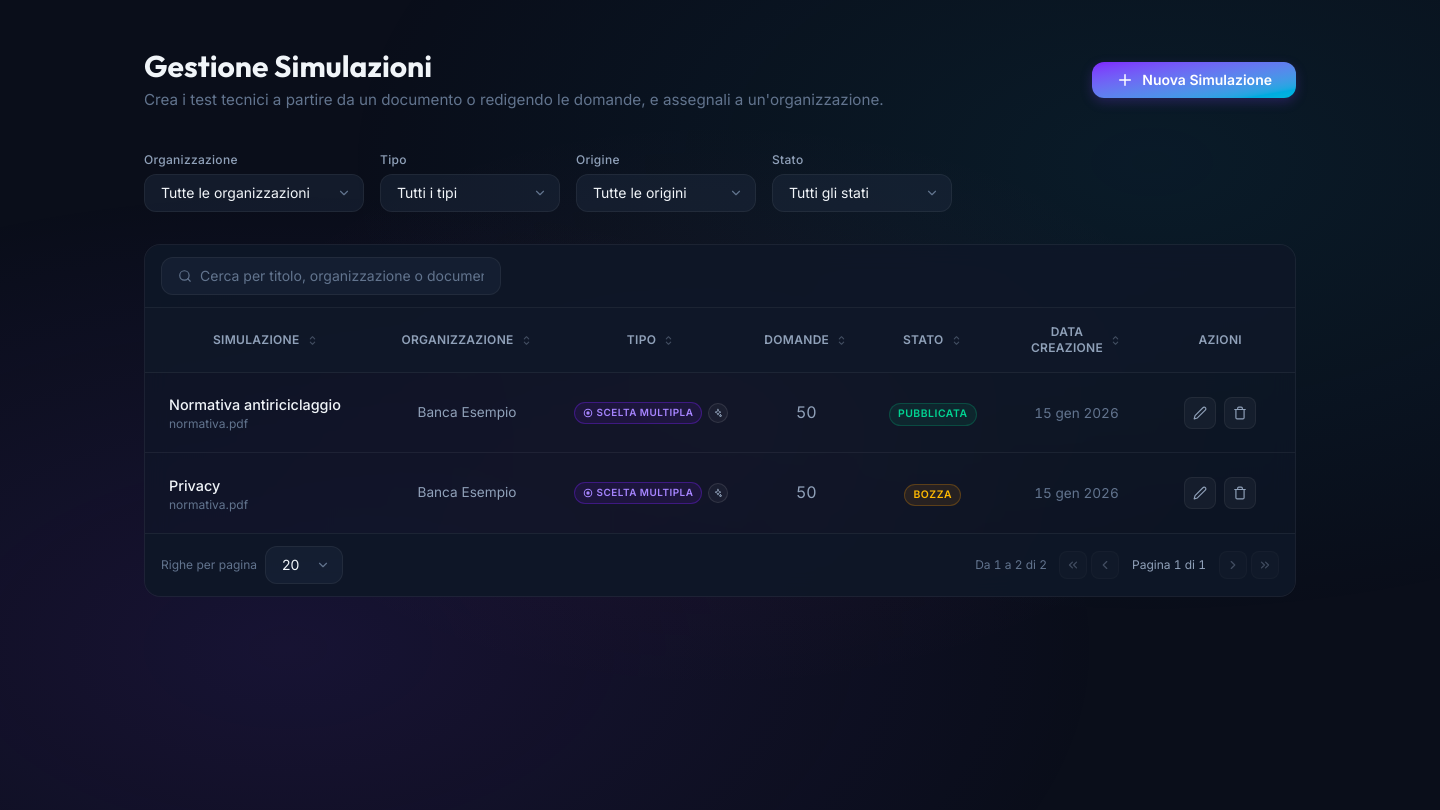
elenco › separa le bozze da finire dalle simulazioni pubblicate
Click the dropdown named "Stato": (862, 193) x1=772 y1=174 x2=952 y2=212
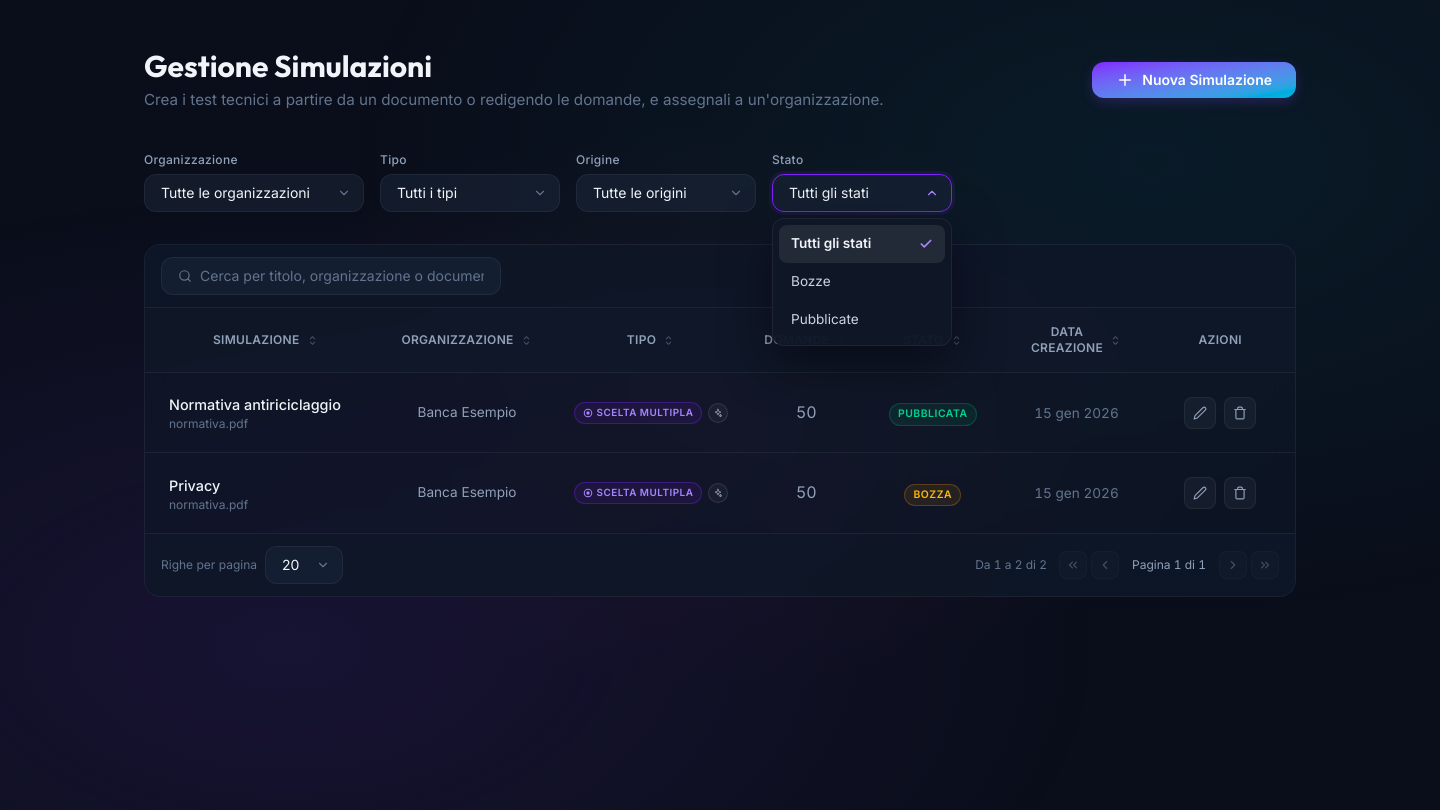
Click the option "Bozze": (811, 281) x1=791 y1=273 x2=831 y2=289
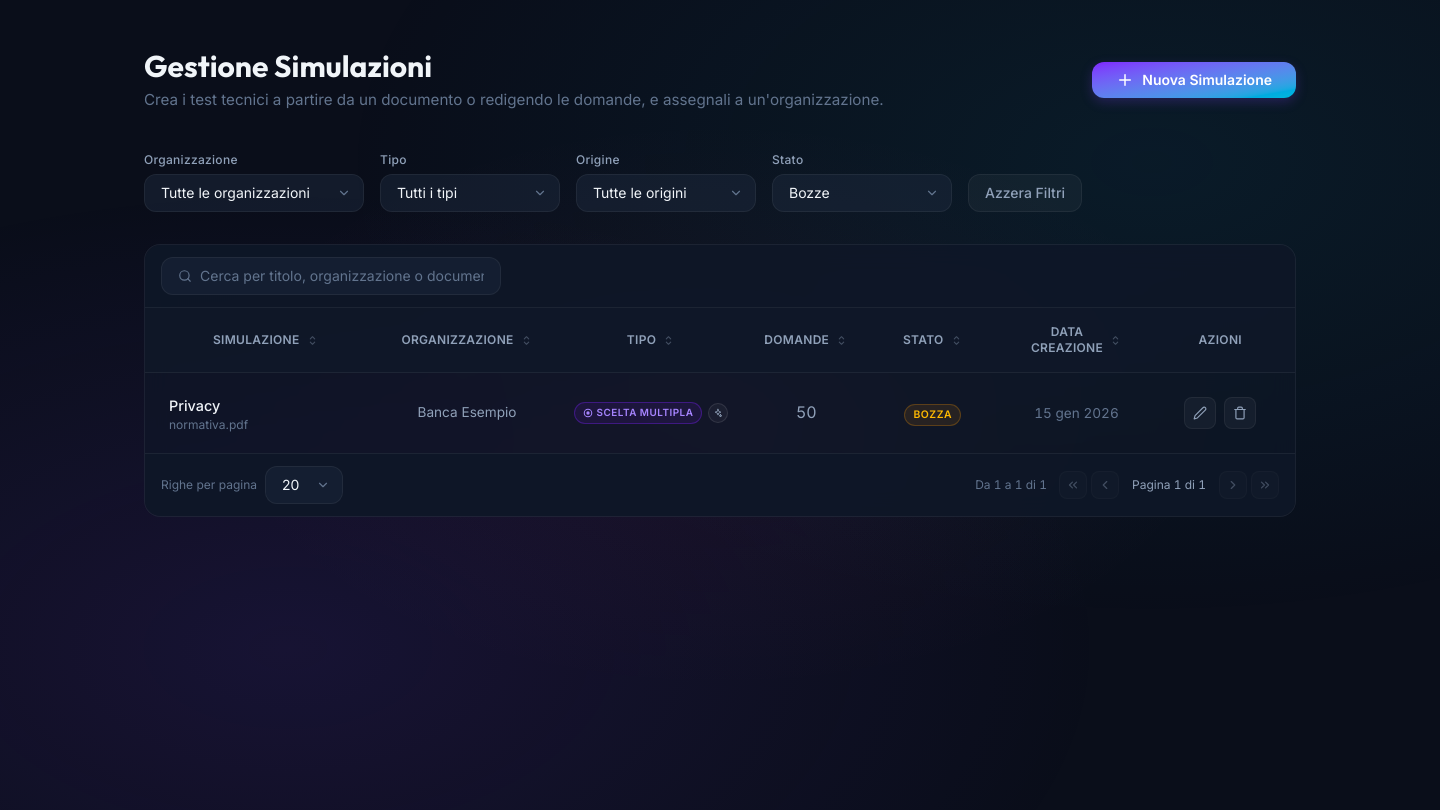
Check: the text "Privacy" is shown, box x1=169 y1=396 x2=220 y2=414
Check: the text "Normativa antiriciclaggio" is gone
Click the dropdown named "Stato": (862, 193) x1=772 y1=174 x2=952 y2=212
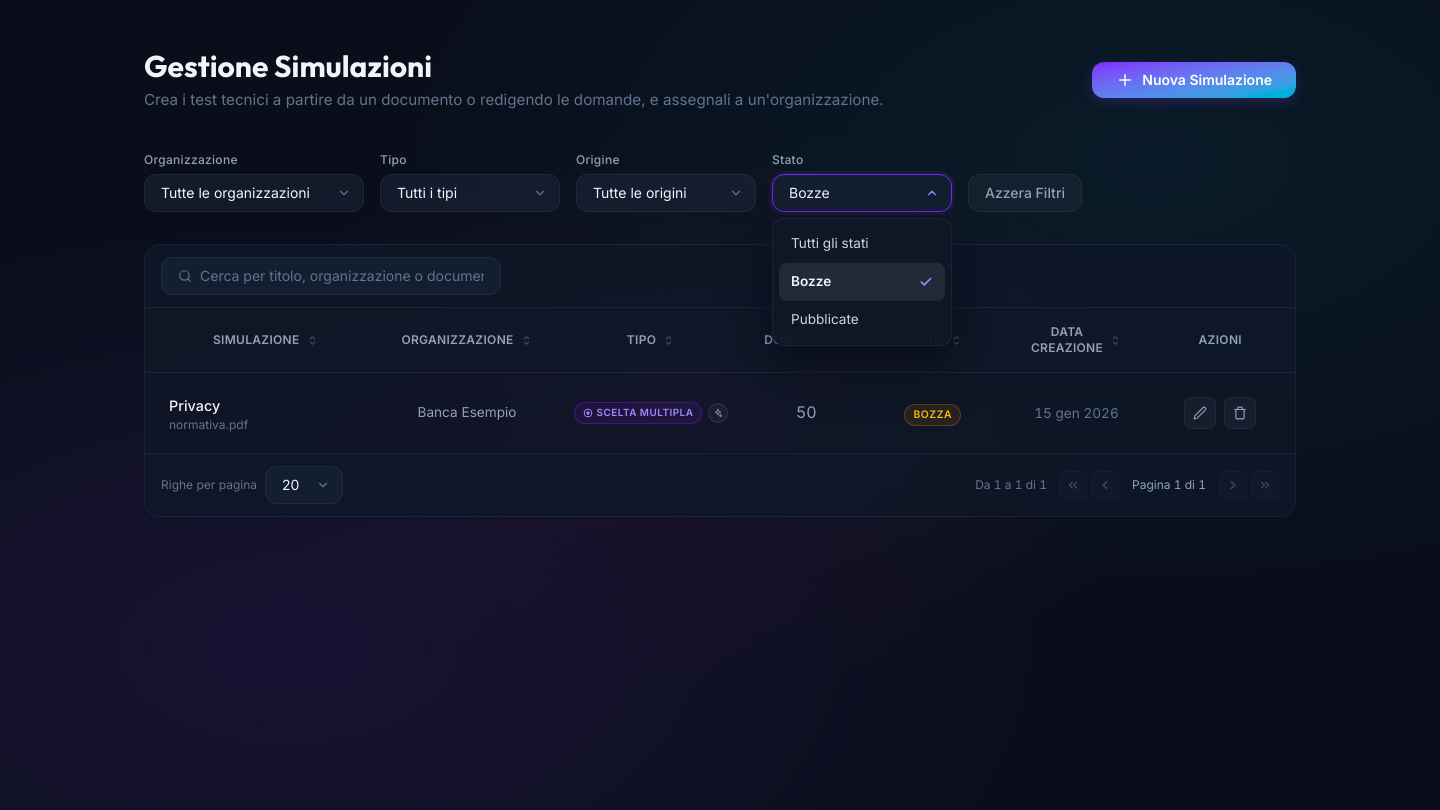
Click the option "Pubblicate": (825, 319) x1=791 y1=311 x2=859 y2=327
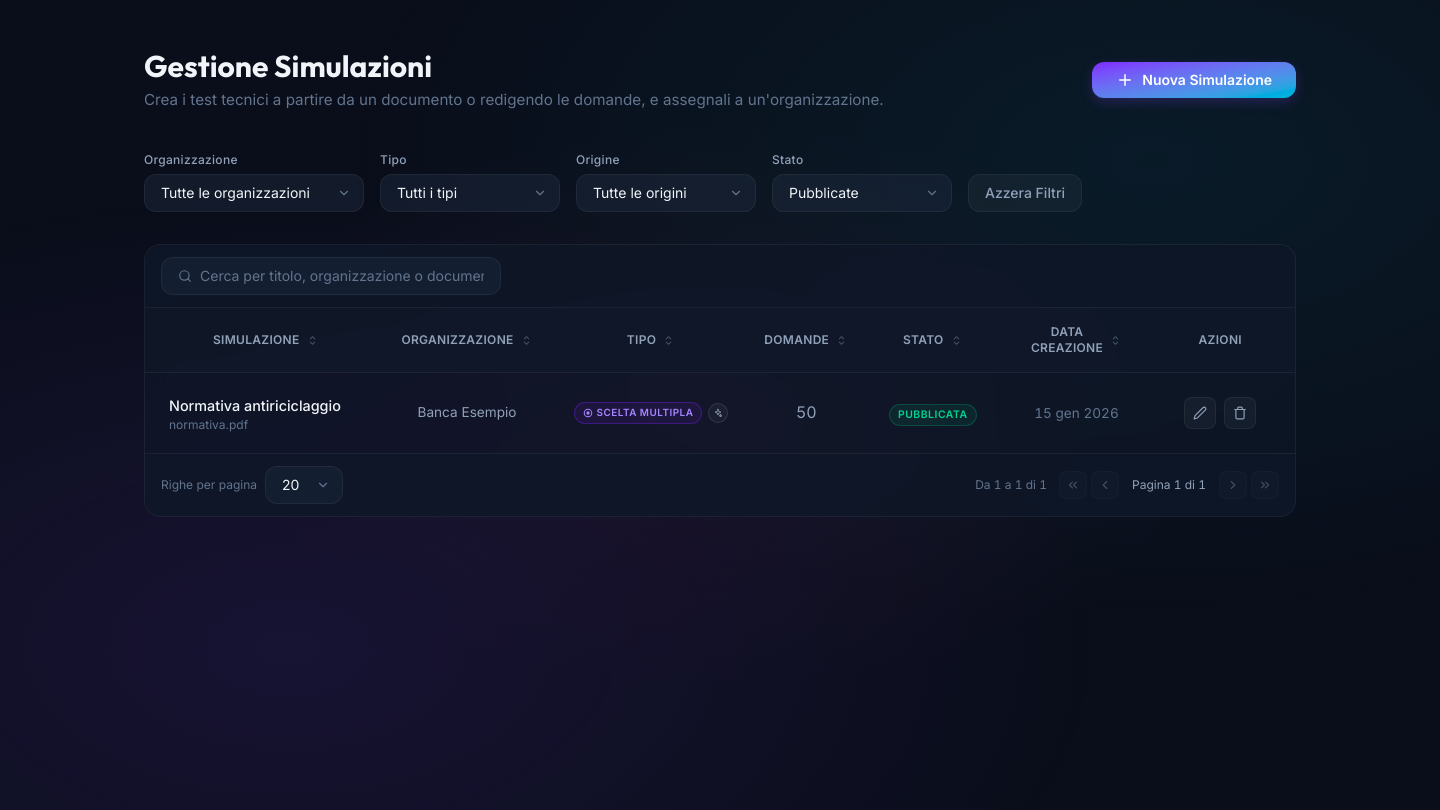
Check: the text "Normativa antiriciclaggio" is shown, box x1=169 y1=394 x2=362 y2=416
Check: the text "Privacy" is gone
Click the dropdown named "Stato": (862, 193) x1=772 y1=174 x2=952 y2=212
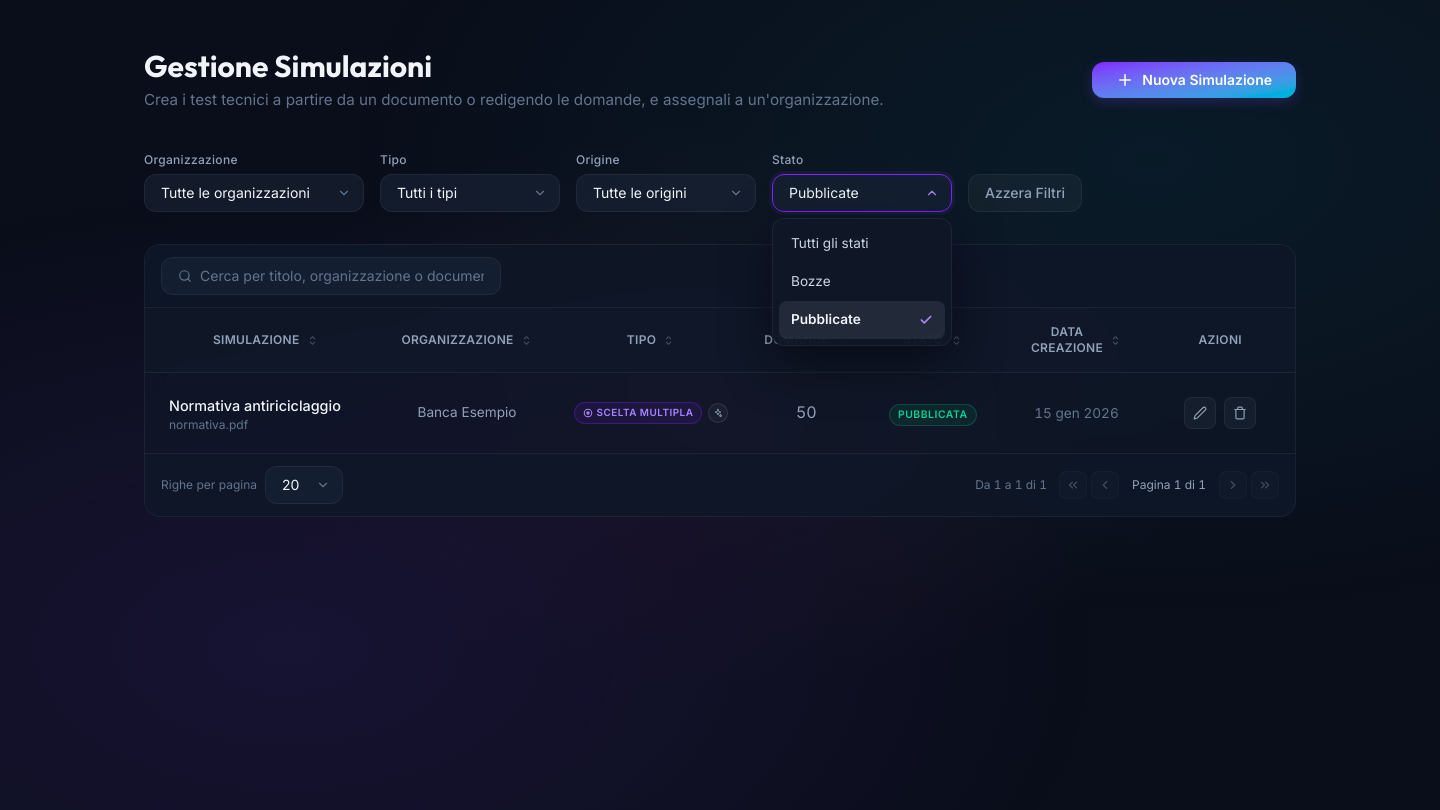
Click the option "Tutti gli stati": (830, 243) x1=791 y1=235 x2=869 y2=251
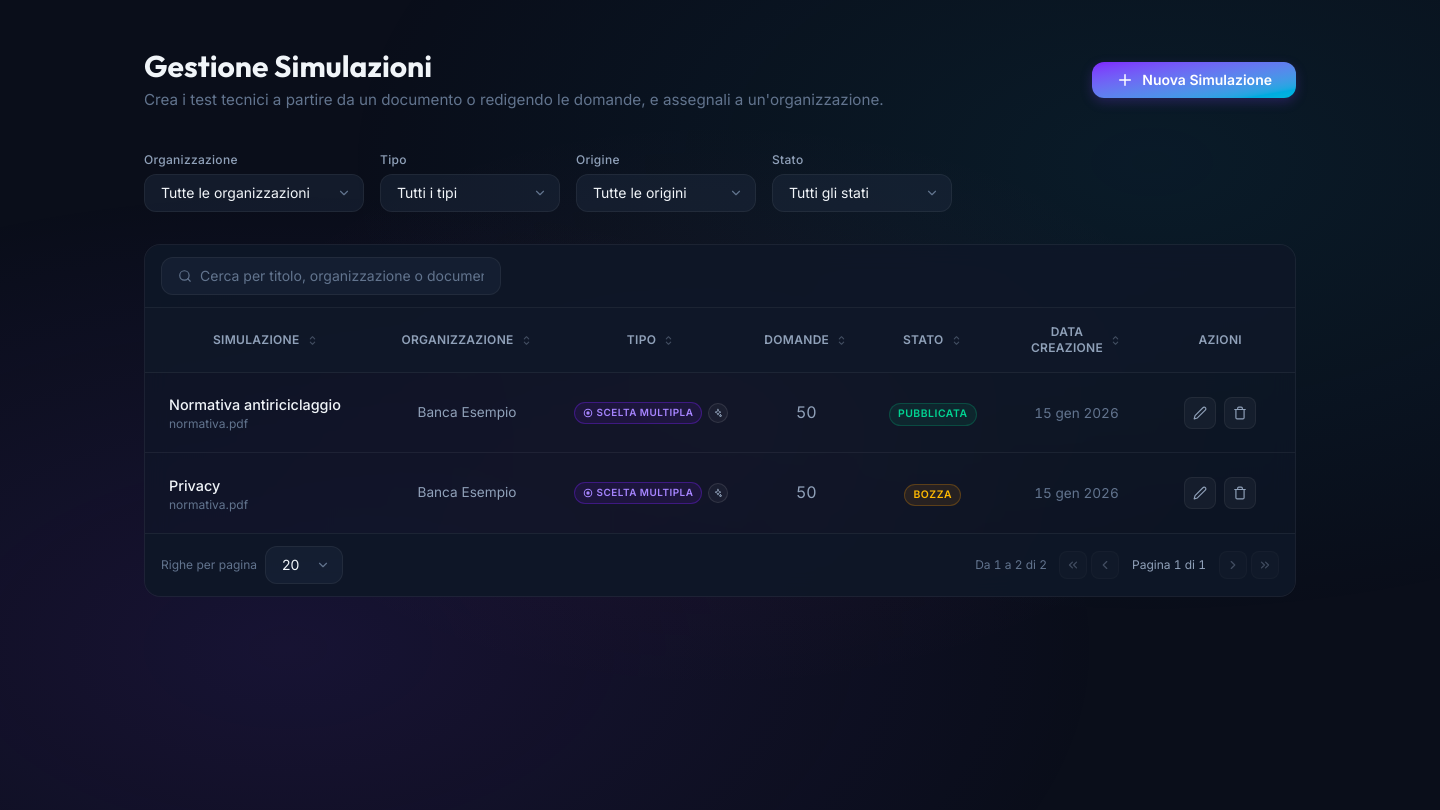
Check: the text "Normativa antiriciclaggio" is shown, box x1=169 y1=393 x2=362 y2=416
Check: the text "Privacy" is shown, box x1=169 y1=476 x2=220 y2=494
